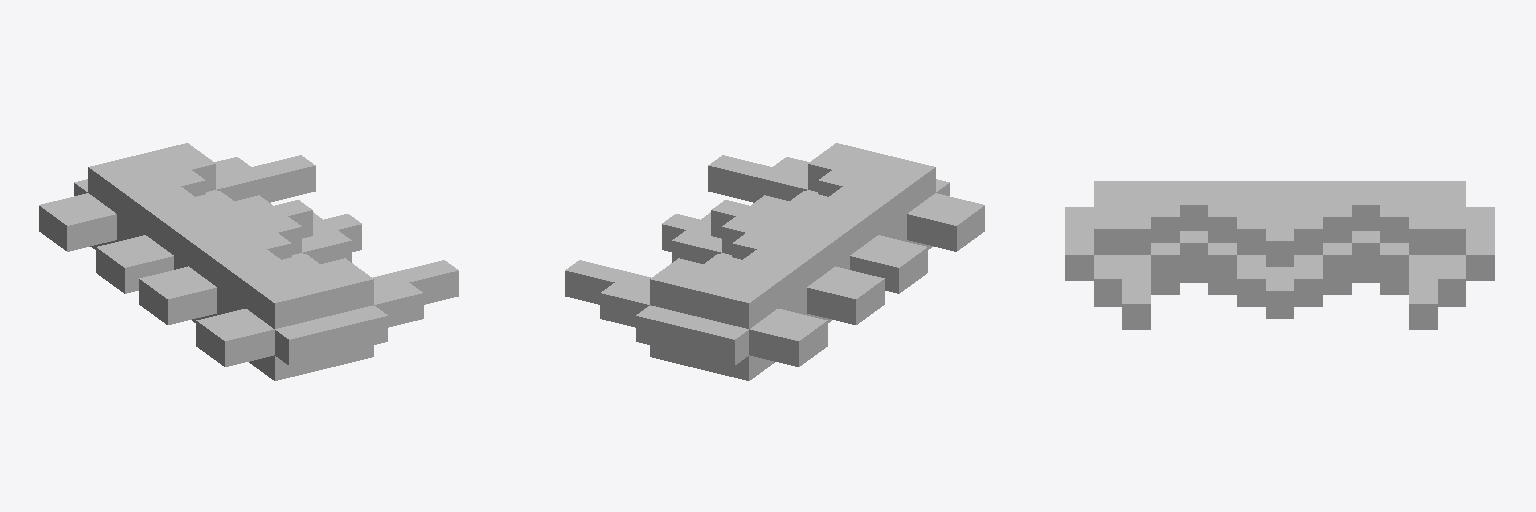
The model's file is Testi.obj.
3 views of the same model, side by side, from view 1: azimuth 30°, elevation 25°; view 2: azimuth 150°, elevation 25°; view 3: azimuth 270°, elevation 25° (orthographic).
Visible parts, largest first — view 1: object 1; view 2: object 1; view 3: object 1.
Part boxes in pixels (x1,y1,x2,y2): object 1: (39, 143, 458, 380); object 1: (565, 143, 984, 380); object 1: (1065, 181, 1494, 329).
Bounding box in the file's own units: 1 × 0.3 × 1.5.